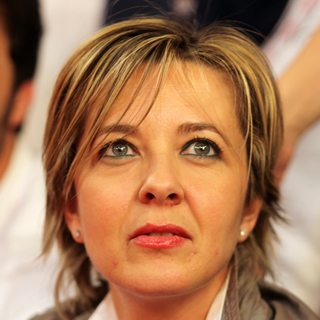eye: (92, 134, 146, 168), (173, 134, 225, 163)
